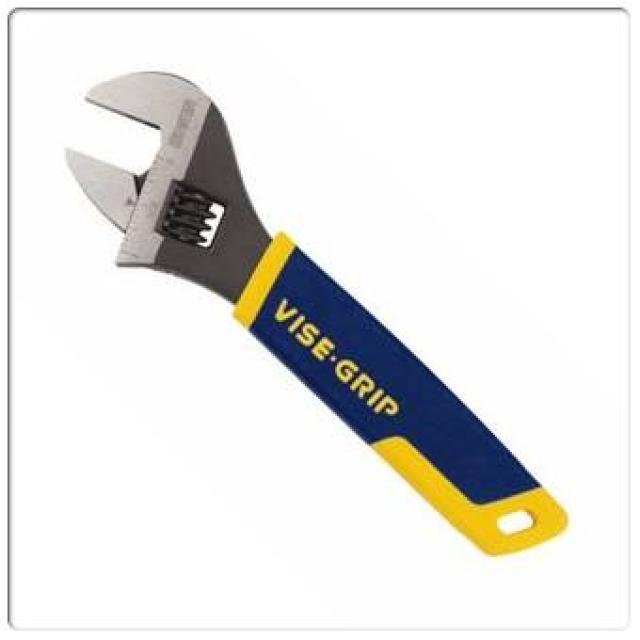wrench: (39, 49, 591, 568)
